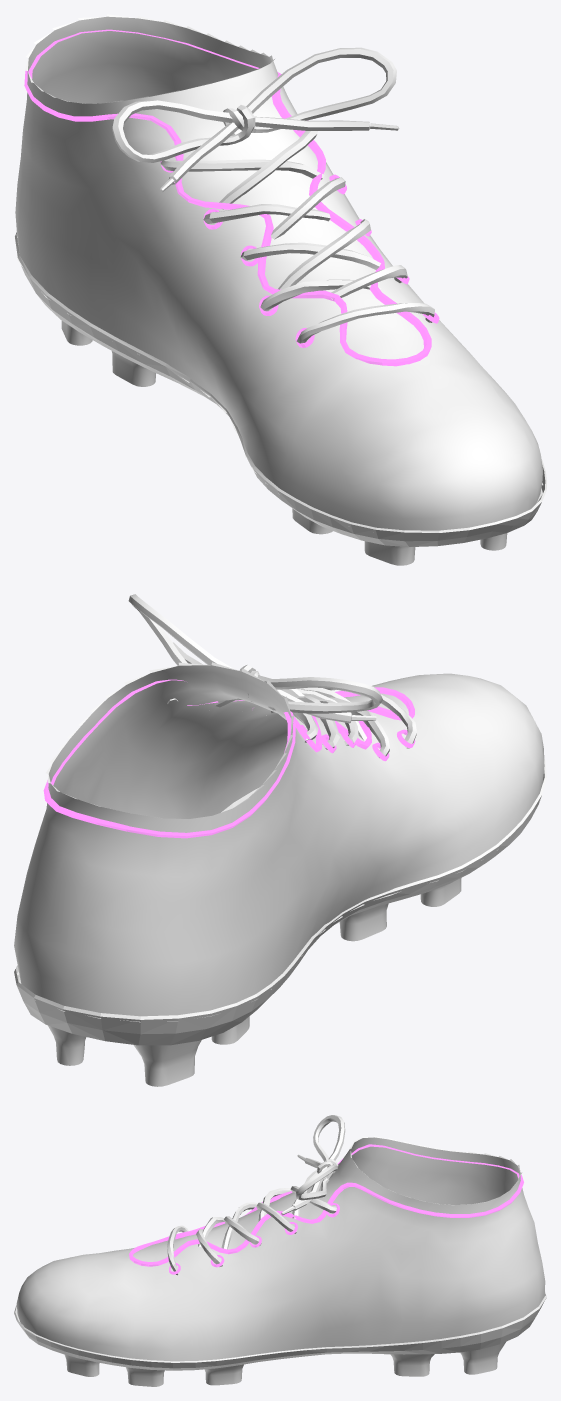
The model's file is scarpa.gltf.
The picture shows the model from 3 angles, top to bottom: view 1: azimuth 30°, elevation 25°; view 2: azimuth 150°, elevation 25°; view 3: azimuth 270°, elevation 25°; orthographic projection. The views are drawn at different scales.
Parts seen in each view (by area): view 1: corpo, laces, suola, Decoration, tacchetti; view 2: corpo, suola, laces, tacchetti, Decoration; view 3: corpo, suola, laces, tacchetti, Decoration.
Part boxes in pixels (box(x1,y1,x2,y2)): corpo: box(14, 14, 543, 530); laces: box(112, 47, 434, 343); suola: box(15, 232, 546, 546); Decoration: box(24, 29, 431, 366); tacchetti: box(61, 321, 507, 565); corpo: box(14, 662, 544, 1022); suola: box(14, 759, 546, 1045); laces: box(128, 594, 416, 757); tacchetti: box(48, 878, 461, 1086); Decoration: box(43, 679, 414, 838); corpo: box(16, 1136, 546, 1361); suola: box(14, 1292, 546, 1370); laces: box(167, 1115, 345, 1275); tacchetti: box(64, 1341, 506, 1386); Decoration: box(129, 1144, 523, 1266).
Size of the model in its own units: 15.01 by 18.21 by 40.77.
